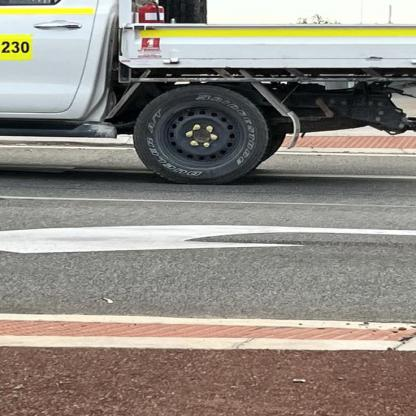Tire: (131, 84, 268, 185)
